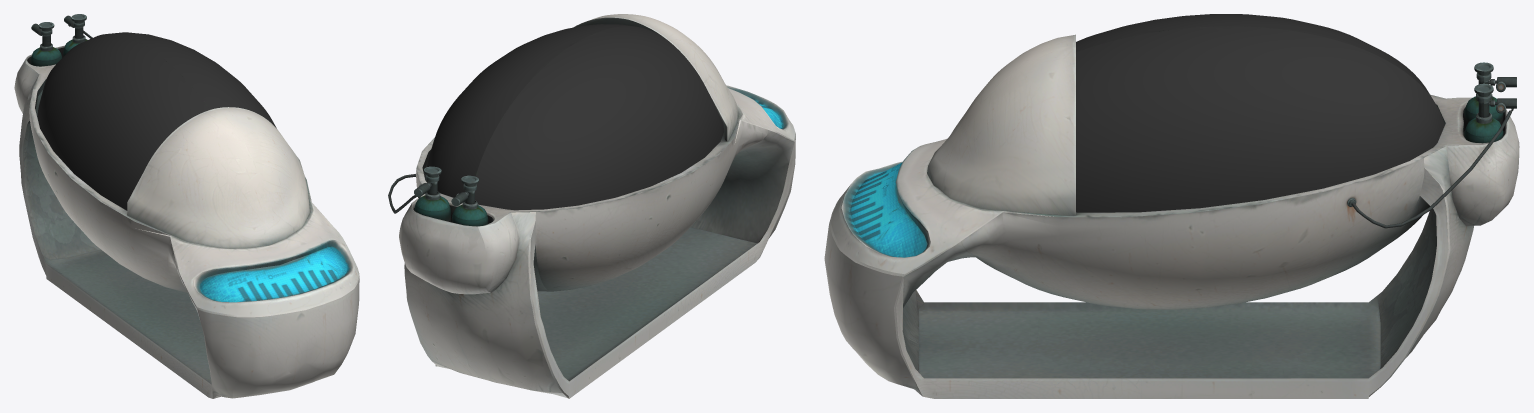
File: bed.obj
3 renders of one model, left to right at view 1: azimuth 30°, elevation 25°; view 2: azimuth 150°, elevation 25°; view 3: azimuth 270°, elevation 25°, orthographic. The views are drawn at different scales.
Visible parts, largest first — view 1: g0; view 2: g0; view 3: g0.
Boxes of the visible parts, x1,y1,x2,y2 form: g0: [14, 14, 359, 398]; g0: [388, 14, 795, 398]; g0: [824, 14, 1519, 398].
Size of the model in its own units: 54.78 by 65.69 by 124.
Materials: 2 (2 with a texture image).
